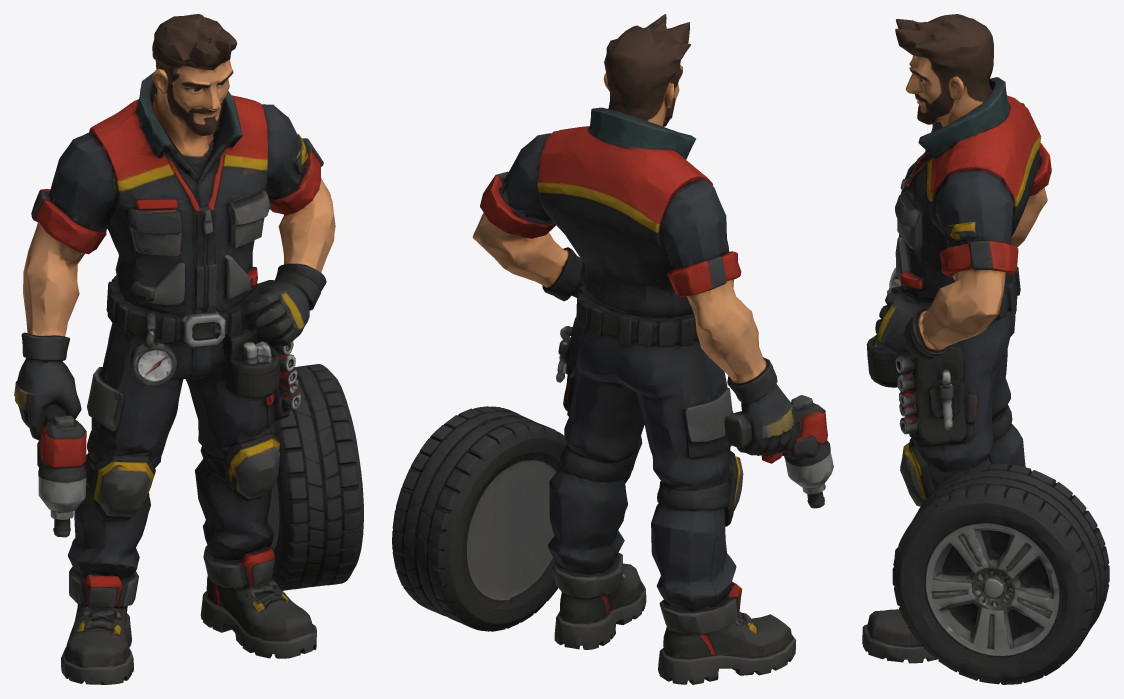
File: wheel_tire_character_1k_real.glb
The picture shows the model from 3 angles, left to right: view 1: azimuth 30°, elevation 25°; view 2: azimuth 150°, elevation 25°; view 3: azimuth 270°, elevation 25°; orthographic projection. The views are drawn at different scales.
Visible parts, largest first — view 1: tripo_node_e40e442a-4249-405b-a7cf-6675c7dc2646; view 2: tripo_node_e40e442a-4249-405b-a7cf-6675c7dc2646; view 3: tripo_node_e40e442a-4249-405b-a7cf-6675c7dc2646.
Boxes of the visible parts, bbox=[...] form: tripo_node_e40e442a-4249-405b-a7cf-6675c7dc2646: bbox=[14, 14, 363, 684]; tripo_node_e40e442a-4249-405b-a7cf-6675c7dc2646: bbox=[392, 14, 833, 684]; tripo_node_e40e442a-4249-405b-a7cf-6675c7dc2646: bbox=[862, 14, 1109, 684].
Size of the model in its own units: 0.6035 by 1 by 0.372.
Materials: 1 (1 with a texture image).
